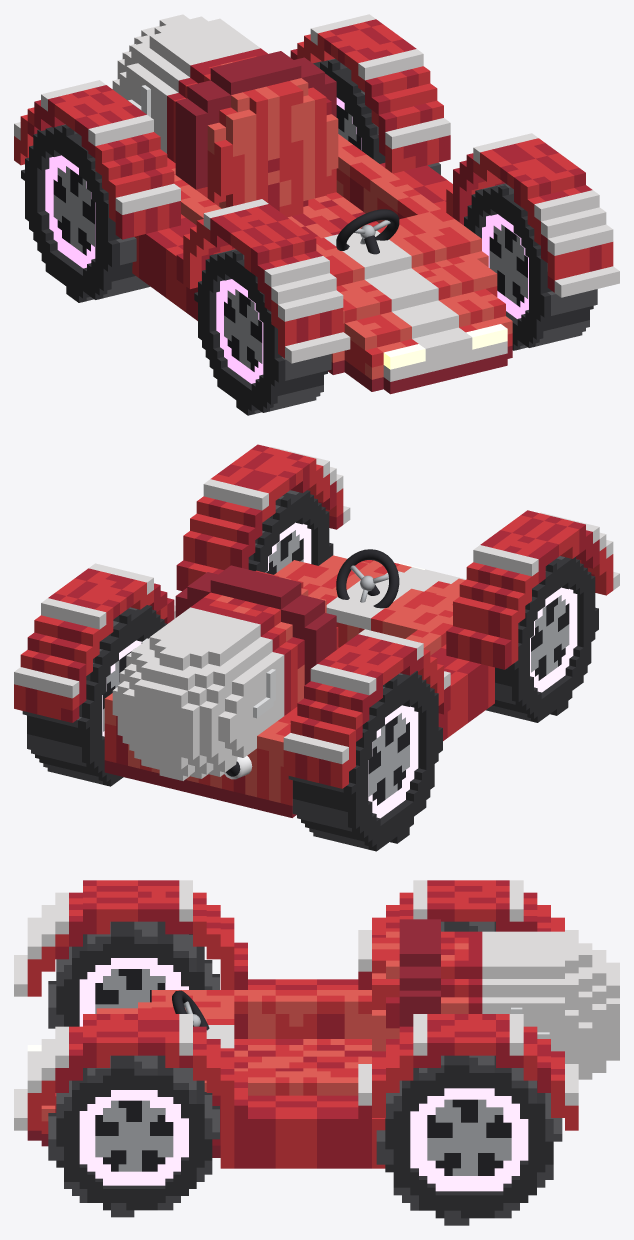
The model's file is K03_CapsuleRocket.glb.
The picture shows the model from 3 angles, top to bottom: view 1: azimuth 30°, elevation 25°; view 2: azimuth 150°, elevation 25°; view 3: azimuth 270°, elevation 25°; orthographic projection.
Visible parts, largest first — view 1: K03_CapsuleRocket_Mesh, K03_Wheel_RL, K03_Wheel_FL, K03_Wheel_FR, K03_Wheel_RR; view 2: K03_CapsuleRocket_Mesh, K03_Wheel_RL, K03_Wheel_FL, K03_Wheel_RR, K03_Wheel_FR; view 3: K03_CapsuleRocket_Mesh, K03_Wheel_RR, K03_Wheel_FR, K03_Wheel_FL, K03_Wheel_RL.
Boxes of the visible parts, x1,y1,x2,y2 form: K03_CapsuleRocket_Mesh: [14, 14, 619, 394]; K03_Wheel_RL: [21, 124, 150, 302]; K03_Wheel_FL: [194, 249, 331, 415]; K03_Wheel_FR: [464, 183, 597, 350]; K03_Wheel_RR: [313, 58, 440, 174]; K03_CapsuleRocket_Mesh: [14, 444, 619, 817]; K03_Wheel_RL: [288, 671, 442, 851]; K03_Wheel_FL: [486, 556, 598, 722]; K03_Wheel_RR: [22, 605, 167, 786]; K03_Wheel_FR: [248, 490, 333, 574]; K03_CapsuleRocket_Mesh: [14, 880, 619, 1168]; K03_Wheel_RR: [376, 1055, 562, 1225]; K03_Wheel_FR: [48, 1055, 219, 1217]; K03_Wheel_FL: [48, 921, 219, 1028]; K03_Wheel_RL: [441, 921, 495, 931].
Bounding box in the file's own units: 1.69 × 0.9996 × 2.64.
